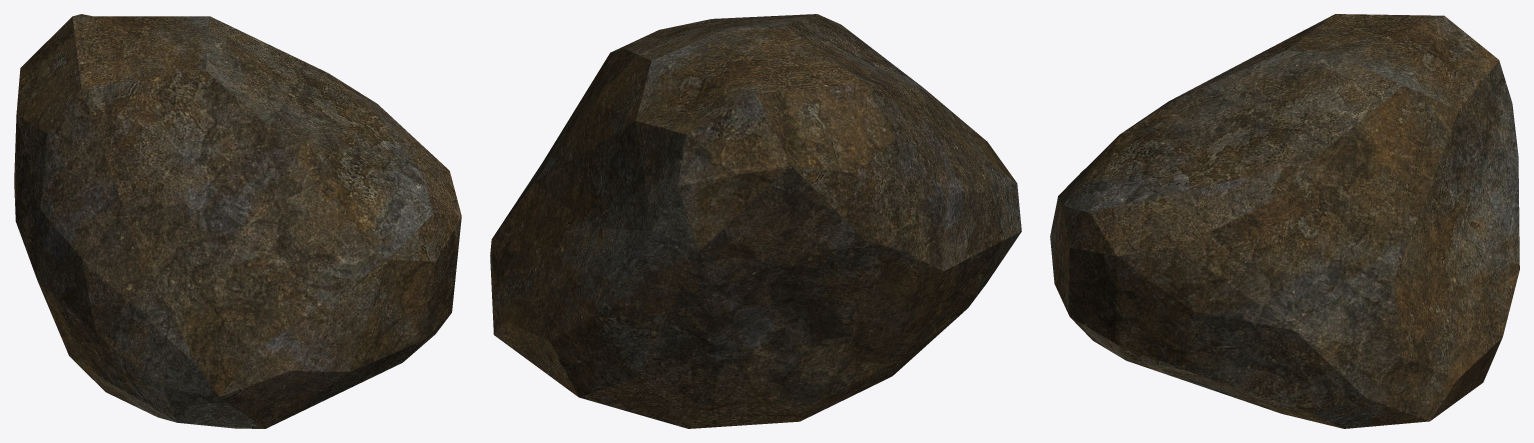
The model's file is stone_3.dae.
The picture shows the model from 3 angles, left to right: view 1: azimuth 30°, elevation 25°; view 2: azimuth 150°, elevation 25°; view 3: azimuth 270°, elevation 25°; orthographic projection. The views are drawn at different scales.
Visible parts, largest first — view 1: stone_3; view 2: stone_3; view 3: stone_3.
Boxes of the visible parts, bbox=[...] form: stone_3: bbox=[14, 14, 461, 428]; stone_3: bbox=[490, 14, 1021, 428]; stone_3: bbox=[1050, 14, 1519, 428].
Size of the model in its own units: 2.52 by 2.67 by 2.12.
1 material, 1 textured.
